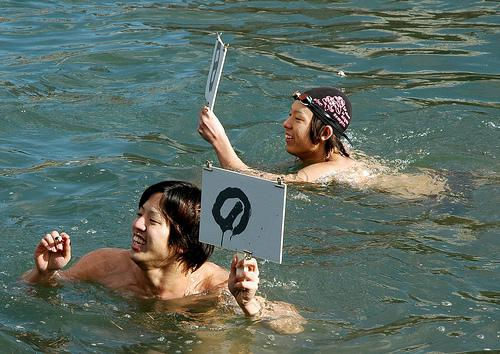swimmer: (24, 177, 298, 332), (196, 80, 462, 206)
